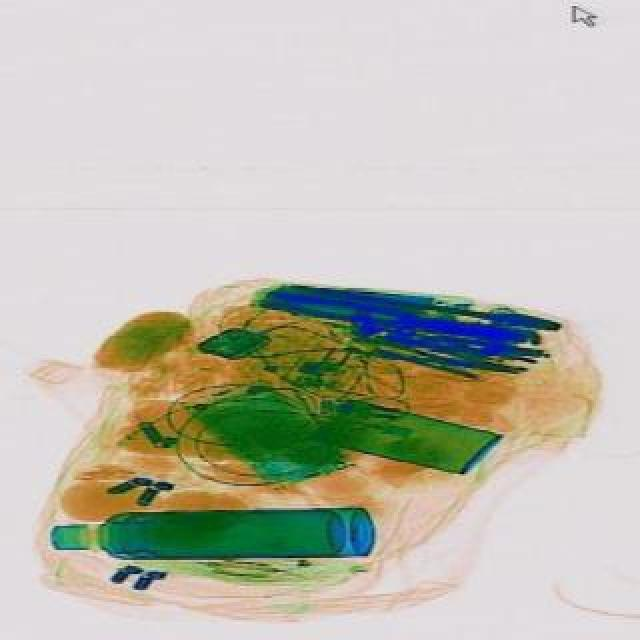wrench: (256, 286, 526, 350)
